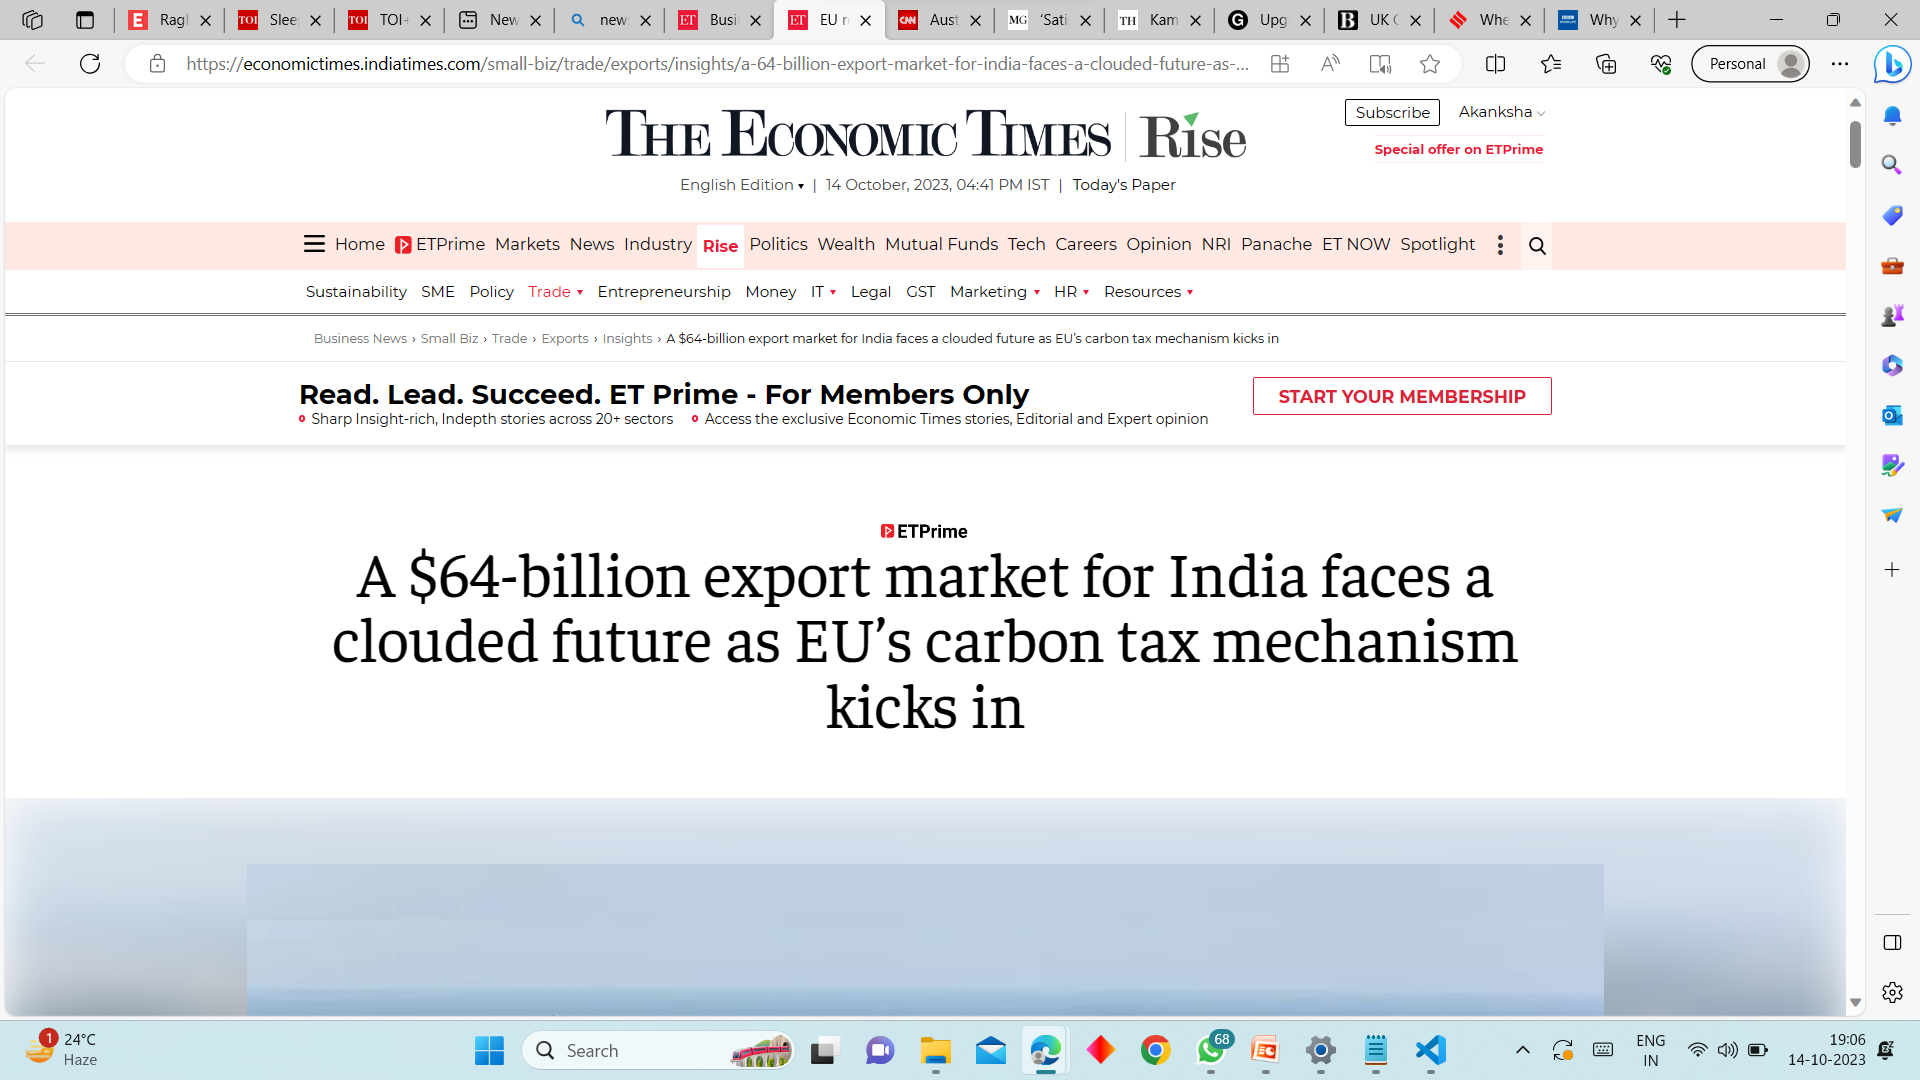Image: (18, 798, 1849, 1004)
Paragraph: (306, 525, 1607, 742), (270, 364, 1241, 450), (575, 84, 1302, 173), (286, 313, 1340, 360), (682, 173, 1193, 206), (1254, 378, 1556, 414)
